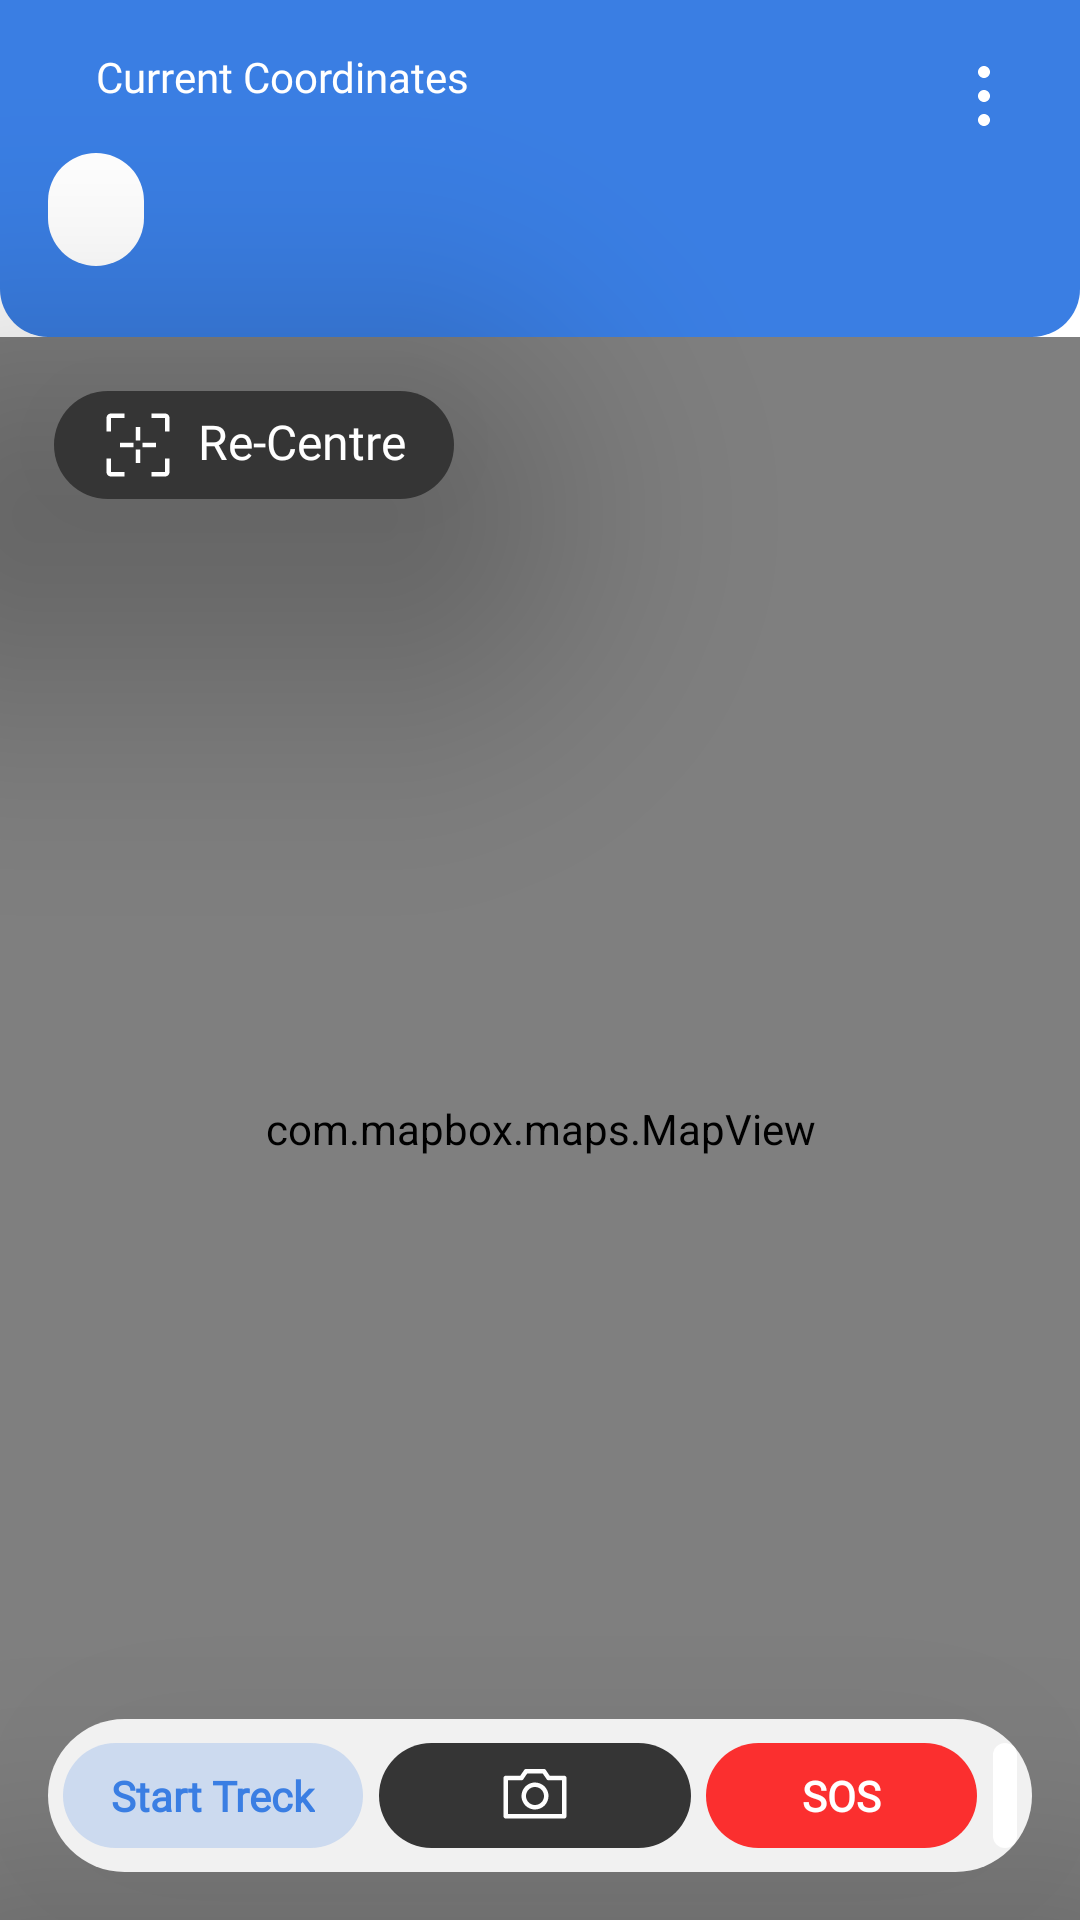

Named icons in this screenshot (1080×1920) and their centers, (x,y):
overflow menu vertical: (984,96)
